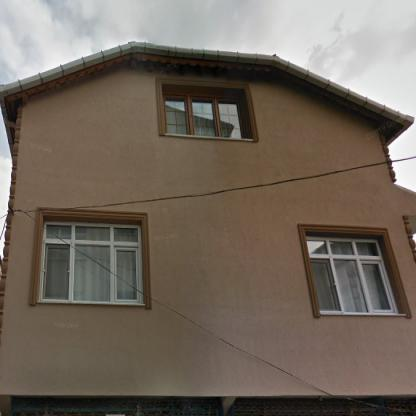window: (42, 225, 141, 301), (307, 238, 397, 312), (166, 93, 249, 139)
